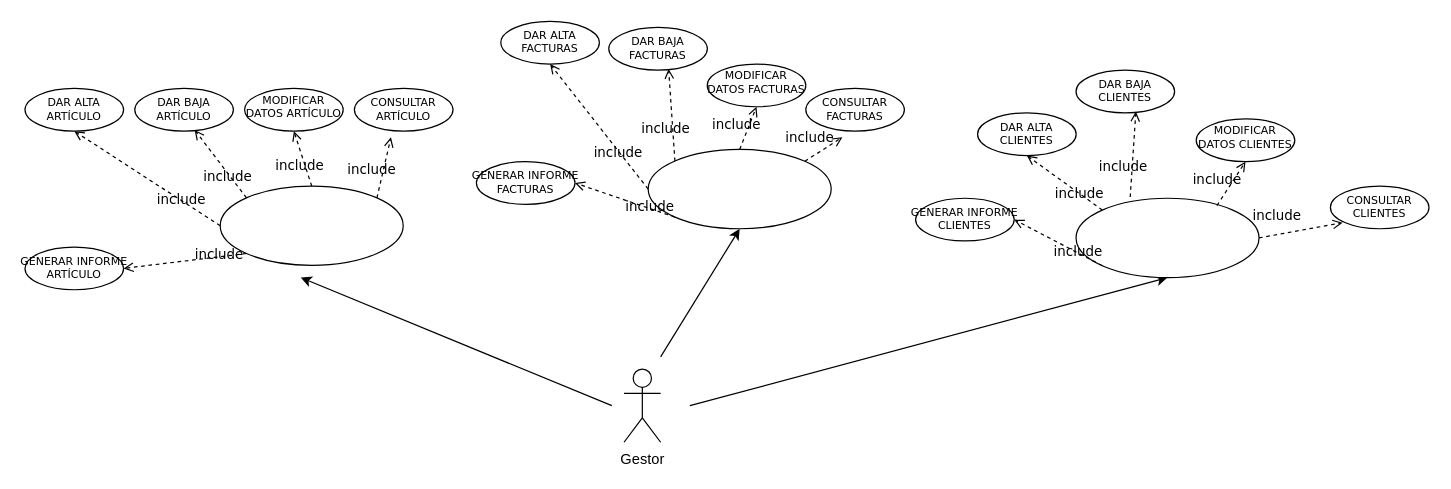
Image size: 1451x489. Some labels were removed from this diagram. The centre of each missing label's shape, as x and y in pixels:
"GESTIONAR DATOS ARTÍCULOS" goes at (x=311, y=225).
"GESTIONAR DATOS CLIENTES" goes at (x=1167, y=237).
"GESTIONAR DATOS FACTURAS" goes at (x=739, y=188).
